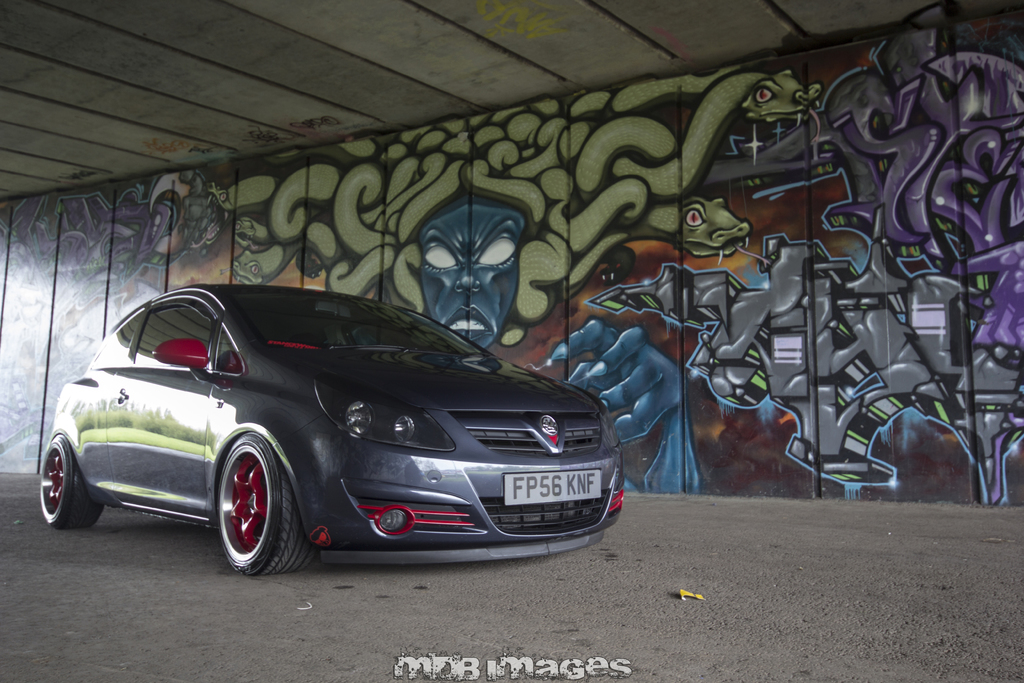Car: (35, 281, 618, 573)
